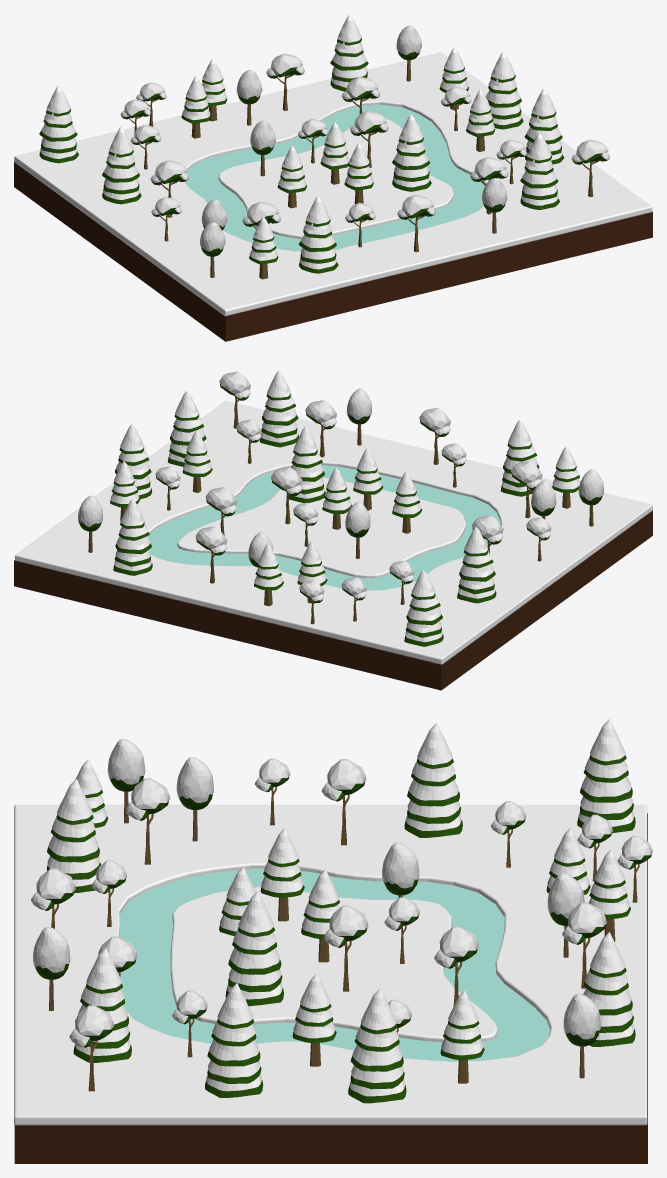
3 renders of one model, top to bottom at view 1: azimuth 30°, elevation 25°; view 2: azimuth 150°, elevation 25°; view 3: azimuth 270°, elevation 25°, orthographic. The views are drawn at different scales.
Parts seen in each view (by area): view 1: Cube001, Cube, Plane, Icosphere008, Icosphere004, Icosphere002, Icosphere010, Icosphere006, snow007, snow, snow003, snow015 (+5 smaller); view 2: Cube001, Cube, Plane, Icosphere004, Icosphere006, Icosphere010, Icosphere001, Icosphere002, snow003, snow009, snow005, snow013 (+4 smaller); view 3: Cube001, Cube, Plane, Icosphere001, Icosphere002, Icosphere004, Icosphere006, Icosphere010, Icosphere008, snow005, snow, snow015 (+33 smaller).
Part boxes in pixels (left/top/right/bottom): Cube001: left=14, top=52, right=652, bottom=316; Cube: left=14, top=161, right=652, bottom=341; Plane: left=185, top=104, right=484, bottom=251; Icosphere008: left=236, top=70, right=262, bottom=99; Icosphere004: left=250, top=120, right=275, bottom=149; Icosphere002: left=396, top=25, right=421, bottom=55; Icosphere010: left=200, top=222, right=225, bottom=251; Icosphere006: left=482, top=178, right=507, bottom=207; snow007: left=397, top=194, right=435, bottom=217; snow: left=150, top=160, right=188, bottom=182; snow003: left=266, top=53, right=304, bottom=76; snow015: left=350, top=110, right=388, bottom=133; Cube001: left=15, top=400, right=652, bottom=664; Cube: left=14, top=510, right=652, bottom=690; Plane: left=148, top=465, right=500, bottom=590; Icosphere004: left=345, top=501, right=370, bottom=532; Icosphere006: left=346, top=388, right=371, bottom=419; Icosphere010: left=578, top=469, right=603, bottom=500; Icosphere001: left=531, top=480, right=556, bottom=511; Icosphere002: left=78, top=495, right=102, bottom=526; snow003: left=195, top=526, right=227, bottom=553; snow009: left=305, top=400, right=336, bottom=427; snow005: left=219, top=371, right=250, bottom=398; snow013: left=205, top=487, right=237, bottom=513; Cube001: left=14, top=804, right=647, bottom=1125; Cube: left=14, top=813, right=647, bottom=1163; Plane: left=118, top=868, right=549, bottom=1061; Icosphere001: left=176, top=757, right=213, bottom=802; Icosphere002: left=563, top=993, right=600, bottom=1039; Icosphere004: left=382, top=842, right=419, bottom=888; Icosphere006: left=33, top=927, right=70, bottom=972; Icosphere010: left=107, top=739, right=145, bottom=784; Icosphere008: left=547, top=873, right=584, bottom=918; snow005: left=69, top=1005, right=114, bottom=1046; snow: left=321, top=759, right=366, bottom=800; snow015: left=324, top=905, right=368, bottom=946.
Bounding box in the file's own units: 35.03 × 8.12 × 30.26.
